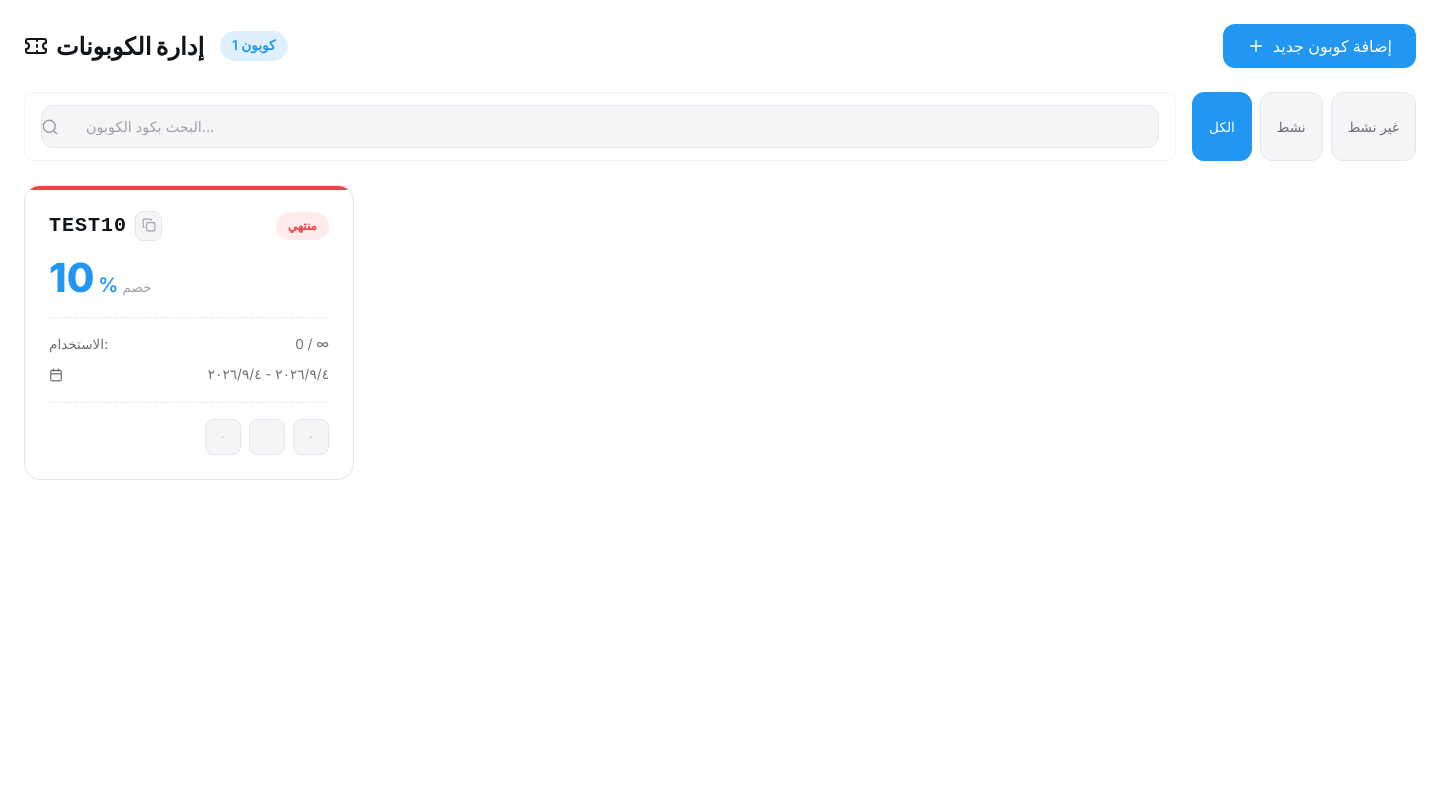
Test case: CouponManager Page › should open create modal
This screenshot has width=1440, height=810.
Click the button "إضافة كوبون جديد" at (1319, 46), box [1223,24,1416,68]
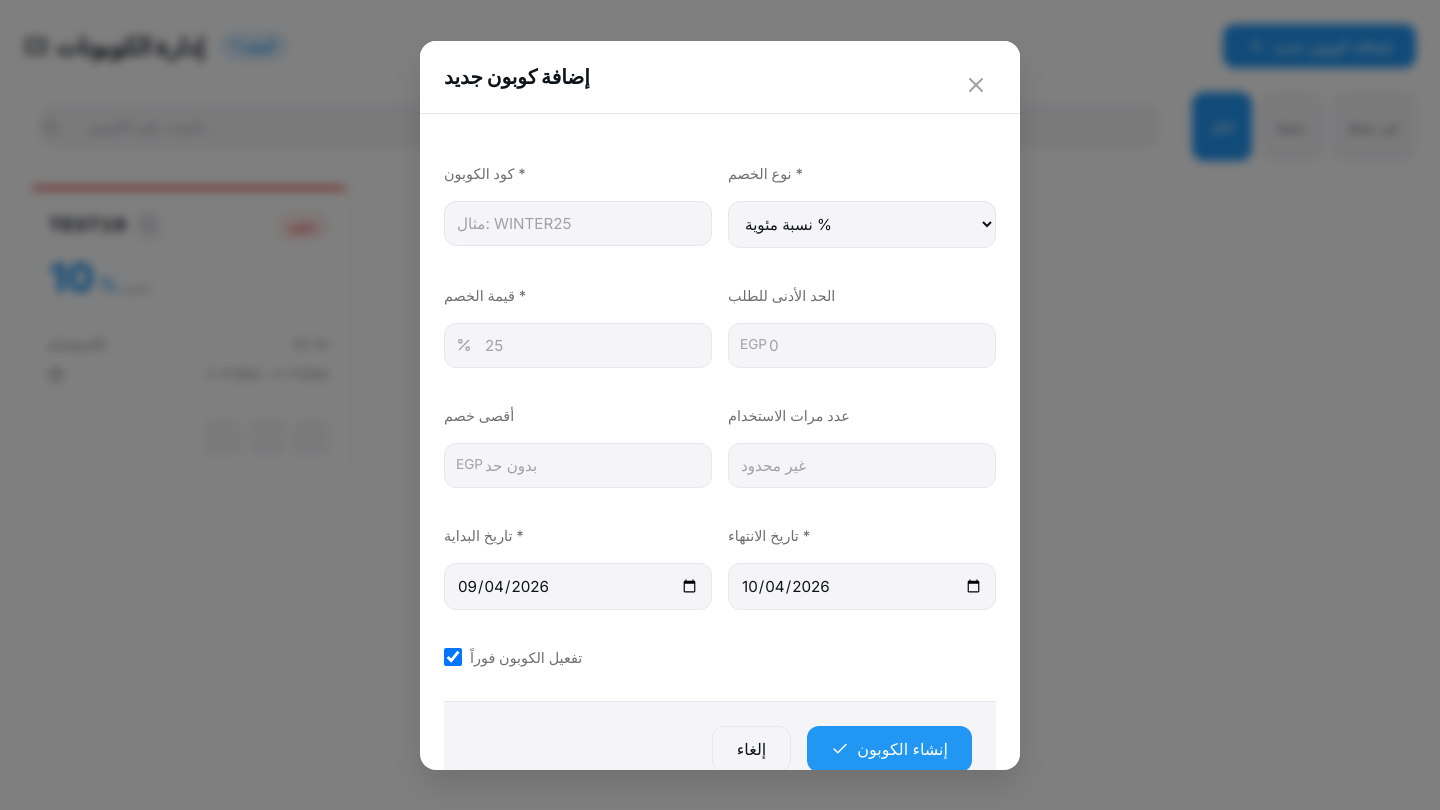
Check: the heading "إضافة كوبون جديد" is shown, box [444,64,590,88]
